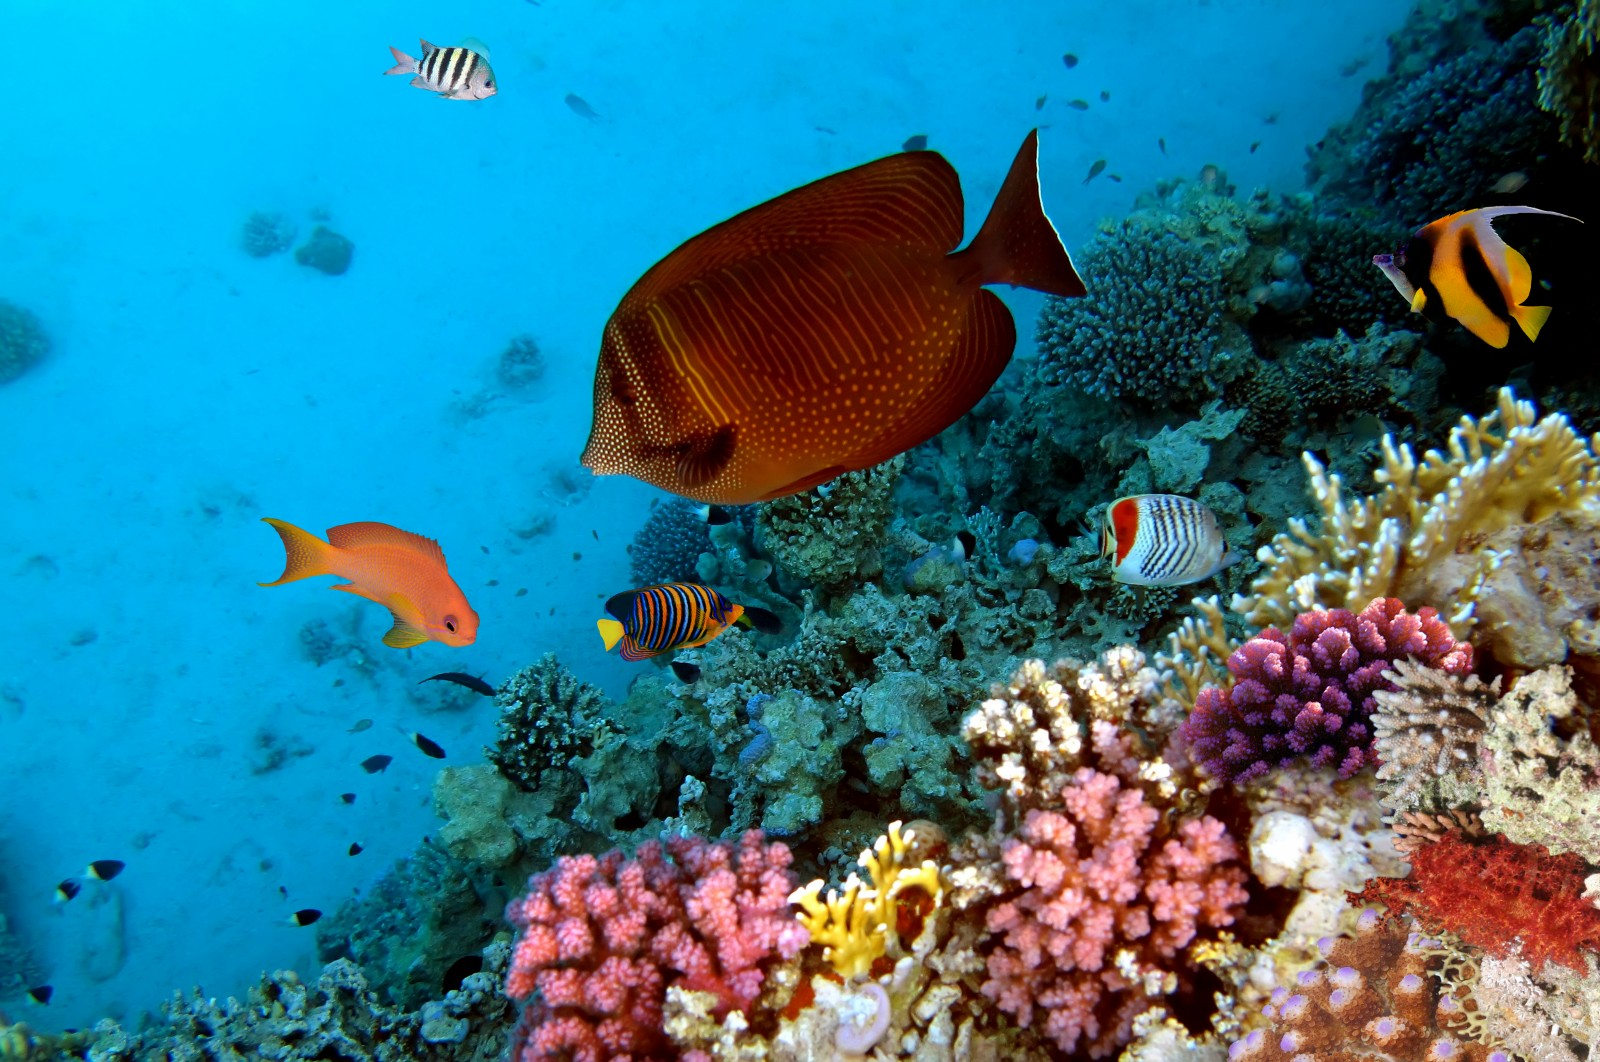big fish: (574, 122, 1076, 505), (1351, 187, 1583, 369), (251, 504, 485, 654), (1080, 484, 1236, 597)
small fish: (583, 572, 748, 660), (369, 31, 506, 115), (417, 661, 497, 705), (939, 522, 992, 570), (743, 599, 792, 642), (684, 505, 732, 535), (667, 657, 708, 691), (1081, 148, 1111, 190)
